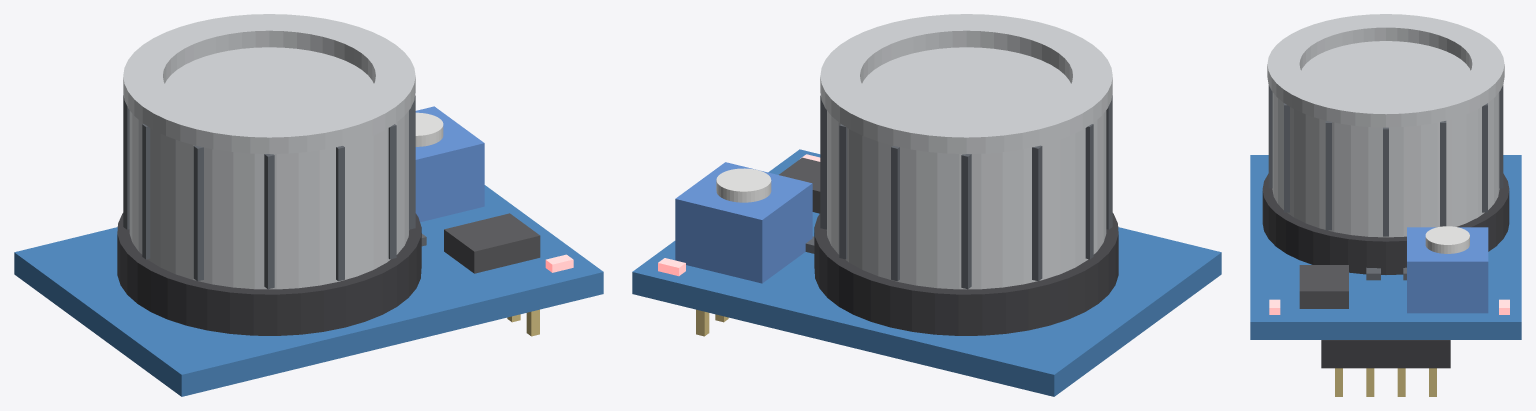
The picture shows the model from 3 angles, left to right: view 1: azimuth 30°, elevation 25°; view 2: azimuth 150°, elevation 25°; view 3: azimuth 270°, elevation 25°; orthographic projection. The views are drawn at different scales.
Visible parts, largest first — view 1: mq_2_3_steel, mq_2_1_pcb_blue, mq_2_4_steel, mq_2_2_plastic_black, mq_2_17_pot_blue, mq_2_19_chip, mq_2_9_dark, mq_2_10_dark, mq_2_8_dark, mq_2_7_dark, mq_2_11_dark, mq_2_6_dark (+2 smaller); view 2: mq_2_3_steel, mq_2_1_pcb_blue, mq_2_4_steel, mq_2_2_plastic_black, mq_2_17_pot_blue, mq_2_18_white, mq_2_13_dark, mq_2_12_dark, mq_2_14_dark, mq_2_15_dark, mq_2_11_dark, mq_2_19_chip (+2 smaller); view 3: mq_2_3_steel, mq_2_1_pcb_blue, mq_2_4_steel, mq_2_2_plastic_black, mq_2_17_pot_blue, mq_2_28_plastic_black, mq_2_19_chip, mq_2_18_white, mq_2_6_dark, mq_2_16_dark, mq_2_5_dark, mq_2_7_dark (+5 smaller).
Boxes of the visible parts, x1,y1,x2,y2 form: mq_2_3_steel: (129, 47, 408, 289); mq_2_1_pcb_blue: (14, 185, 603, 396); mq_2_4_steel: (123, 14, 415, 153); mq_2_2_plastic_black: (117, 213, 421, 335); mq_2_17_pot_blue: (415, 106, 484, 222); mq_2_19_chip: (444, 213, 540, 273); mq_2_9_dark: (264, 154, 274, 289); mq_2_10_dark: (193, 145, 203, 281); mq_2_8_dark: (336, 146, 344, 281); mq_2_7_dark: (388, 124, 396, 259); mq_2_11_dark: (142, 124, 150, 259); mq_2_6_dark: (409, 95, 415, 229); mq_2_3_steel: (827, 47, 1106, 289); mq_2_1_pcb_blue: (632, 149, 1221, 396); mq_2_4_steel: (820, 14, 1112, 153); mq_2_2_plastic_black: (814, 213, 1118, 335); mq_2_17_pot_blue: (675, 162, 812, 283); mq_2_18_white: (716, 168, 771, 202); mq_2_13_dark: (961, 154, 971, 289); mq_2_12_dark: (1032, 145, 1042, 281); mq_2_14_dark: (891, 146, 899, 281); mq_2_15_dark: (839, 124, 847, 259); mq_2_11_dark: (1085, 124, 1093, 259); mq_2_19_chip: (779, 157, 820, 213); mq_2_3_steel: (1272, 41, 1499, 237); mq_2_1_pcb_blue: (1250, 155, 1521, 339); mq_2_4_steel: (1267, 14, 1504, 127); mq_2_2_plastic_black: (1262, 173, 1509, 274); mq_2_17_pot_blue: (1407, 227, 1488, 313); mq_2_28_plastic_black: (1321, 340, 1450, 368); mq_2_19_chip: (1299, 265, 1348, 308); mq_2_18_white: (1425, 226, 1469, 253); mq_2_6_dark: (1325, 121, 1331, 230); mq_2_16_dark: (1440, 121, 1446, 226); mq_2_5_dark: (1383, 127, 1388, 236); mq_2_7_dark: (1284, 103, 1289, 212).
Size of the model in its own units: 32.05 by 21.3 by 22.
